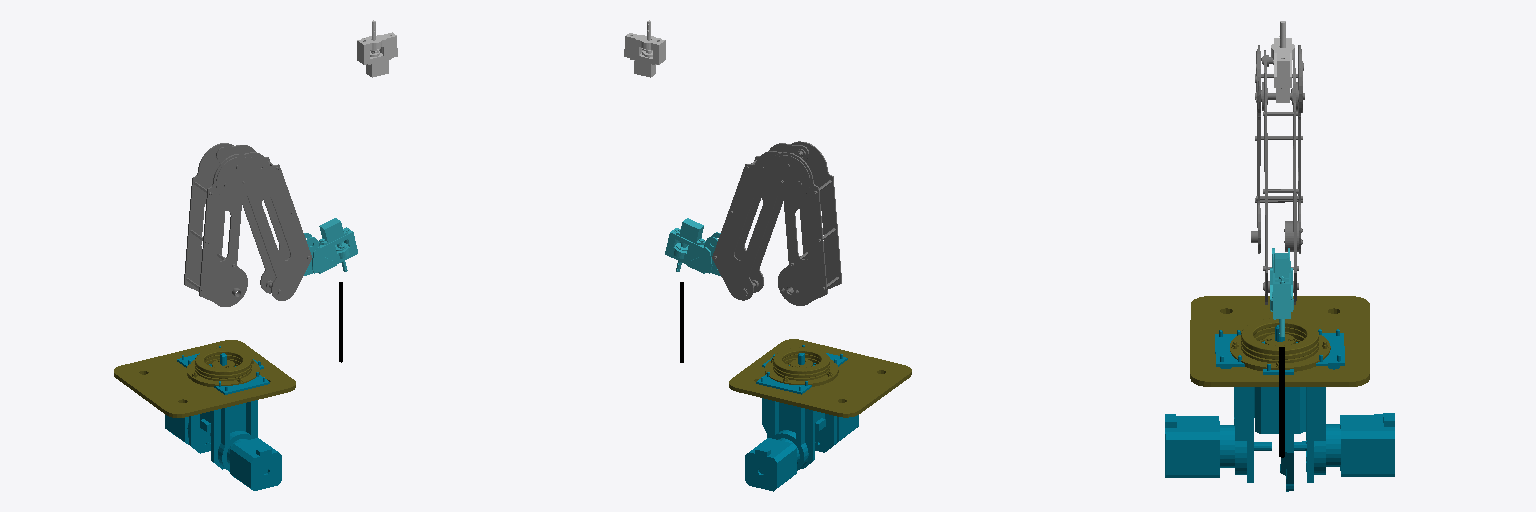
URDF robot description (armbot):
<?xml version="1.0" encoding="utf-8"?>
<!-- This URDF was automatically created by SolidWorks to URDF Exporter! Originally created by [author] ([email redacted]) 
     Commit Version: 1.6.0-4-g7f85cfe  Build Version: 1.6.7995.38578
     For more information, please see http://wiki.ros.org/sw_urdf_exporter -->

<robot name="armbot">

  <material name="Black">
      <color rgba="0 0 0 1"/>
  </material>

  <material name="White">
      <color rgba="1 1 1 1"/>
  </material>

  <material name="Grey">
      <color rgba="0.5 0.5 0.5 1"/>
  </material>

  <material name="Blue">
      <color rgba="0.03 0.53 0.64 1"/>
  </material>

  <material name="BlueLight">
      <color rgba="0.24 0.69 0.74 1"/>
  </material>

  <material name="Yellow">
      <color rgba="0.42 0.40 0.15 1"/>
  </material>

  <link name="world"/>

  <joint name="joint1_world" type="fixed" >
      <parent link="world"/>
      <child link="base_link"/> </joint>

  <link
    name="base_link">
    <inertial>
      <origin
        xyz="0.0211202900240581 2.59775846834193E-11 0.00380052135150776"
        rpy="0 0 0" />
      <mass
        value="0.271570047216607" />
      <inertia
        ixx="0.000442541459178714"
        ixy="-7.61202510824958E-12"
        ixz="-5.27773157069647E-07"
        iyy="0.000555892462598209"
        iyz="5.63321074251884E-15"
        izz="0.000997118891006557" />
    </inertial>
    <visual>
      <origin
        xyz="0 0 0"
        rpy="0 0 3.14" />
      <geometry>
        <mesh
          filename="package://armbot_description/meshes/model_npoa/base_link.STL" />
      </geometry>
      <material name="Yellow"/>
    </visual>
    <collision>
      <origin
        xyz="0 0 0"
        rpy="0 0 0" />
      <geometry>
        <mesh
          filename="package://armbot_description/meshes/model_npoa/base_link.STL" />
      </geometry>
    </collision>
  </link>

  <link
    name="link_1">
    <inertial>
      <origin
        xyz="-0.00272155425407784 -0.000113340999406611 -0.0586724985336868"
        rpy="0 0 0" />
      <mass
        value="0.579092466366984" />
      <inertia
        ixx="0.000456587803138105"
        ixy="-1.13087657027162E-07"
        ixz="3.16702255632446E-06"
        iyy="0.000511771419629803"
        iyz="-1.37277769518058E-06"
        izz="0.000496840287124422" />
    </inertial>
    <visual>
      <origin
        xyz="0 0 0"
        rpy="0 0 3.14" />
      <geometry>
        <mesh
          filename="package://armbot_description/meshes/model_npoa/link_1.STL" />
      </geometry>
      <material name="Blue"/>
    </visual>
    <collision>
      <origin
        xyz="0 0 0"
        rpy="0 0 0" />
      <geometry>
        <mesh
          filename="package://armbot_description/meshes/model_npoa/link_1.STL" />
      </geometry>
    </collision>
  </link>

  <joint
    name="joint_1"
    type="revolute">
    <origin
      xyz="0.003 0 0.0155"
      rpy="-3.1416 0 -3.1269" />
    <parent
      link="base_link" />
    <child
      link="link_1" />
    <axis
      xyz="0 0 -1" />
    <limit
      lower="-2.25"
      upper="2.25"
      effort="150"
      velocity="3.15" />
  </joint>

  <link
    name="link_2">
    <inertial>
      <origin
        xyz="0.0886170480813812 0.005985856672575 0.0152502295082419"
        rpy="0 0 0" />
      <mass
        value="0.100204717943486" />
      <inertia
        ixx="2.61429021289324E-05"
        ixy="2.54454507036305E-05"
        ixz="1.09431347818403E-11"
        iyy="0.000203985274699578"
        iyz="-1.27442674892586E-12"
        izz="0.000226109263195528" />
    </inertial>
    <visual>
      <origin
        xyz="0 -0.005 0"
        rpy="0 0 0" />
      <geometry>
        <mesh
          filename="package://armbot_description/meshes/model_npoa/link_2.STL" />
      </geometry>
      <material name="Grey"/>
    </visual>
    <collision>
      <origin
        xyz="0 0 0"
        rpy="0 0 0" />
      <geometry>
        <mesh
          filename="package://armbot_description/meshes/model_npoa/link_2.STL" />
      </geometry>
    </collision>
  </link>

  <joint
    name="joint_2"
    type="revolute">
    <origin
      xyz="0.0027435 0.0155 -0.09502"
      rpy="1.5708 1.5708 0" />
    <parent
      link="link_1" />
    <child
      link="link_2" />
    <axis
      xyz="0 0 1" />
    <limit
      lower="-1.5708"
      upper="0"
      effort="150"
      velocity="3.15" />
  </joint>

  <link
    name="link_3">
    <inertial>
      <origin
        xyz="0.064674729234811 -0.0429649321408343 -0.010241645589869"
        rpy="0 0 0" />
      <mass
        value="0.0817197581918697" />
      <inertia
        ixx="4.0415498257249E-05"
        ixy="6.56935131118188E-05"
        ixz="-6.5359216897847E-12"
        iyy="0.000201073936512037"
        iyz="2.86095194327021E-12"
        izz="0.000240128503885537" />
    </inertial>
    <visual>
      <origin
        xyz="0 0 0"
        rpy="0 0 0" />
      <geometry>
        <mesh
          filename="package://armbot_description/meshes/model_npoa/link_3.STL" />
      </geometry>
      <material name="Grey"/>
    </visual>
    <collision>
      <origin
        xyz="0 0 0"
        rpy="0 0 0" />
      <geometry>
        <mesh
          filename="package://armbot_description/meshes/model_npoa/link_3.STL" />
      </geometry>
    </collision>
  </link>

  <joint
    name="joint_3"
    type="revolute">
    <origin
      xyz="0.13709 -0.015779 0.0061346"
      rpy="3.1416 0 -2.8788" />
    <parent
      link="link_2" />
    <child
      link="link_3" />
    <axis
      xyz="0.0026029 -0.0096749 0.99995" />
    <limit
      lower="-1.5708"
      upper="0"
      effort="150"
      velocity="3.15" />
  </joint>
  <link
    name="link_4">
    <inertial>
      <origin
        xyz="-0.00375610824670326 0.0215143905323992 0.00749999999999806"
        rpy="0 0 0" />
      <mass
        value="0.0208066724716135" />
      <inertia
        ixx="6.19890674797337E-06"
        ixy="2.80615422421083E-06"
        ixz="-1.89885927056448E-19"
        iyy="4.90291491797169E-06"
        iyz="-4.33905862120816E-20"
        izz="9.64616279359452E-06" />
    </inertial>
    <visual>
      <origin
        xyz="0 0 0"
        rpy="0 0 0" />
      <geometry>
        <mesh
          filename="package://armbot_description/meshes/model_npoa/link_4.STL" />
      </geometry>
      <material name="BlueLight"/>
    </visual>
    <collision>
      <origin
        xyz="0 0 0"
        rpy="0 0 0" />
      <geometry>
        <mesh
          filename="package://armbot_description/meshes/model_npoa/link_4.STL" />
      </geometry>
    </collision>
  </link>

  <joint
    name="joint_4"
    type="revolute">
    <origin
      xyz="0.15162 -0.051106 -0.017433"
      rpy="0 0 -3.0829" />
    <parent
      link="link_3" />
    <child
      link="link_4" />
    <axis
      xyz="0 0 1" />
    <limit
      lower="-3.14159265"
      upper="3.14159265"
      effort="150"
      velocity="3.15" />
  </joint>
  
  <link
    name="link_end">
    <inertial>
      <origin
        xyz="-0.0483151025046168 -0.219886709667518 3.40719887590205E-05"
        rpy="0 0 0" />
      <mass
        value="0.0720522181905562" />
      <inertia
        ixx="4.65168177236826E-06"
        ixy="2.69782530922447E-07"
        ixz="2.26895455918722E-10"
        iyy="5.43707428101803E-06"
        iyz="1.28996353964216E-09"
        izz="8.25427653472157E-06" />
    </inertial>
    <visual>
      <origin
        xyz="0.096 0.2375 -0.0075"
        rpy="0 0 0" />
      <geometry>
        <mesh
          filename="package://armbot_description/meshes/model_npoa/link_end.STL" />
      </geometry>
      <material
        name="">
        <color
          rgba="0.752941176470588 0.752941176470588 0.752941176470588 1" />
      </material>
    </visual>
    <collision>
      <origin
        xyz="0 0 0"
        rpy="0 0 0" />
      <geometry>
        <mesh
          filename="package://armbot_description/meshes/model_npoa/link_end.STL" />
      </geometry>
    </collision>
  </link>

  <joint
    name="joint_end"
    type="fixed">
    <origin
      xyz="0 0 0"
      rpy="-3.1416 0 1.7749" />
    <parent
      link="link_4" />
    <child
      link="link_end" />
    <axis
      xyz="0 0 0" />
  </joint>
  
  <link
    name="link_grip">
    <inertial>
      <origin
        xyz="0.00200590224436334 -0.0122688289336258 0.0385866948639068"
        rpy="0 0 0" />
      <mass
        value="0.142220620437737" />
      <inertia
        ixx="1.22983347376849E-05"
        ixy="-3.17923624774908E-07"
        ixz="4.75415212904915E-07"
        iyy="1.82963683986045E-05"
        iyz="-5.2172700716867E-07"
        izz="1.47186042220067E-05" />
    </inertial>
    <visual>
      <origin
        xyz="0 0 0"
        rpy="0 0 0" />
      <geometry>
        <cylinder length="0.10" radius="0.0025"/>
        <!-- <mesh filename="package://armbot_description/meshes/model_npoa/link_grip.STL" /> -->
      </geometry>
      <material name="Black"/>
    </visual>
    <collision>
      <origin
        xyz="0 0 0"
        rpy="0 0 0" />
      <geometry>
        <cylinder length="0.10" radius="0.0025"/>
        <!-- <mesh filename="package://armbot_description/meshes/model_npoa/link_grip.STL" /> -->
      </geometry>
    </collision>
  </link>

  <joint
    name="joint_grip"
    type="revolute">
    <origin
      xyz="0.0525 -0.083 -0.0075"
      rpy="1.5708 0 0" />
    <parent
      link="link_end" />
    <child
      link="link_grip" />
    <axis
      xyz="0 0 -1" />
    <limit
      lower="-1.570796325"
      upper="1.570796325"
      effort="150"
      velocity="3.15" />
  </joint>
</robot>

--- Render facts (derived) ---
3 views of the same robot in one strip: view 1: azimuth 30°, elevation 25°; view 2: azimuth 150°, elevation 25°; view 3: azimuth 270°, elevation 25° (orthographic).
Model armbot with 8 links and 7 joints (5 revolute, 2 fixed), rooted at world, posed all joints at 0.
Links seen in each view (by area): view 1: base_link, link_2, link_1, link_3, link_4, link_end; view 2: base_link, link_2, link_1, link_3, link_4, link_end; view 3: link_1, base_link, link_2, link_3, link_4, link_end, link_grip.
Link boxes in pixels (left/top/right/bottom): base_link: left=114, top=340, right=295, bottom=417; link_2: left=184, top=143, right=257, bottom=306; link_1: left=165, top=346, right=281, bottom=490; link_3: left=216, top=145, right=311, bottom=300; link_4: left=304, top=218, right=357, bottom=275; link_end: left=357, top=20, right=397, bottom=77; base_link: left=729, top=339, right=911, bottom=417; link_2: left=767, top=141, right=841, bottom=305; link_1: left=745, top=345, right=858, bottom=491; link_3: left=712, top=143, right=808, bottom=300; link_4: left=665, top=218, right=720, bottom=275; link_end: left=624, top=20, right=665, bottom=77; link_1: left=1165, top=325, right=1394, bottom=491; base_link: left=1190, top=296, right=1369, bottom=386; link_2: left=1251, top=45, right=1304, bottom=253; link_3: left=1261, top=50, right=1298, bottom=304; link_4: left=1270, top=248, right=1293, bottom=336; link_end: left=1271, top=21, right=1294, bottom=102; link_grip: left=1279, top=347, right=1284, bottom=457.
Bounding box of the posed robot: 0.339 × 0.1927 × 0.5192 m (x, y, z).
Meshes: 6 distinct files referenced, 6 mesh visuals loaded (6 binary STL).